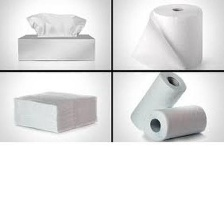book: (13, 31, 99, 65)
tissue: (124, 2, 208, 70), (7, 83, 102, 137), (125, 70, 190, 135), (140, 100, 210, 142), (21, 7, 90, 42)
